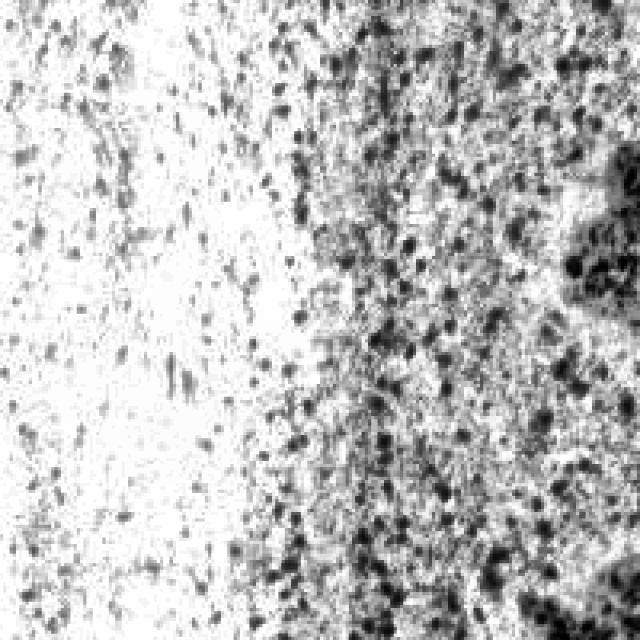Rolled_in_Scale: (188, 15, 630, 630), (3, 3, 157, 618)
